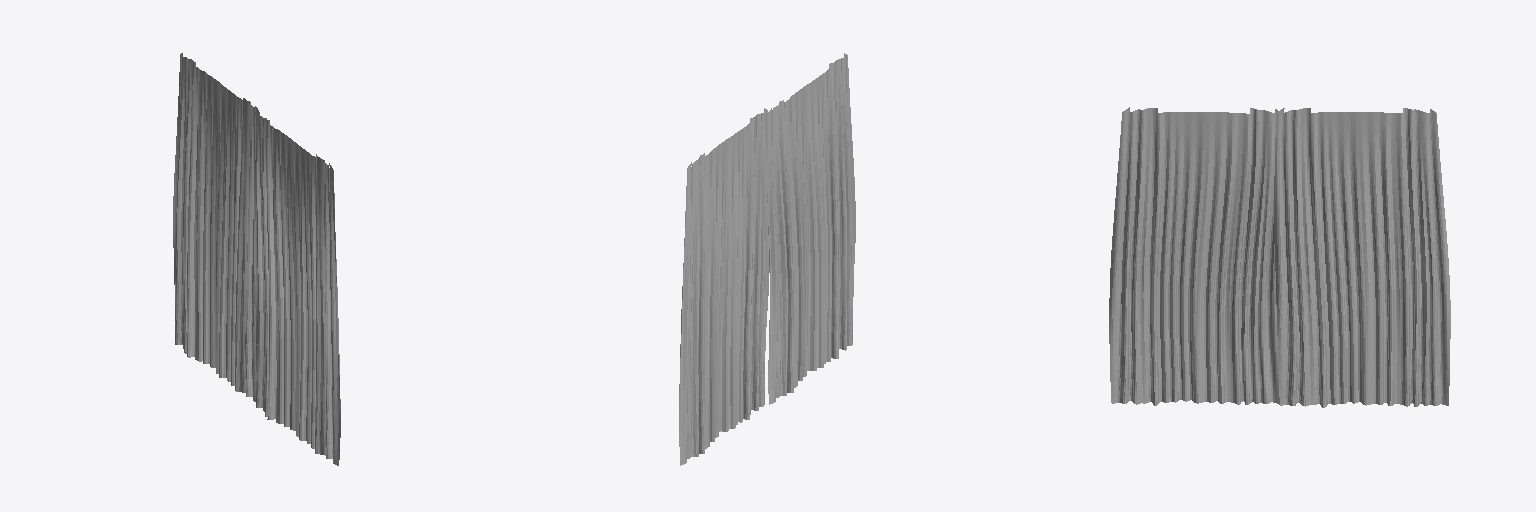
File: cloth.obj
3 views of the same model, side by side, from view 1: azimuth 30°, elevation 25°; view 2: azimuth 150°, elevation 25°; view 3: azimuth 270°, elevation 25° (orthographic).
Parts seen in each view (by area): view 1: curtain_Plane, curtain.001_Plane.001; view 2: curtain.001_Plane.001, curtain_Plane; view 3: curtain.001_Plane.001, curtain_Plane.
Boxes of the visible parts, x1=… form: curtain_Plane: x1=254, y1=111, x2=340, y2=465; curtain.001_Plane.001: x1=173, y1=53, x2=259, y2=401; curtain.001_Plane.001: x1=679, y1=108, x2=768, y2=465; curtain_Plane: x1=767, y1=53, x2=855, y2=404; curtain.001_Plane.001: x1=1274, y1=108, x2=1450, y2=407; curtain_Plane: x1=1109, y1=107, x2=1279, y2=405.
Bounding box in the file's own units: 1.01 × 21.24 × 22.03.